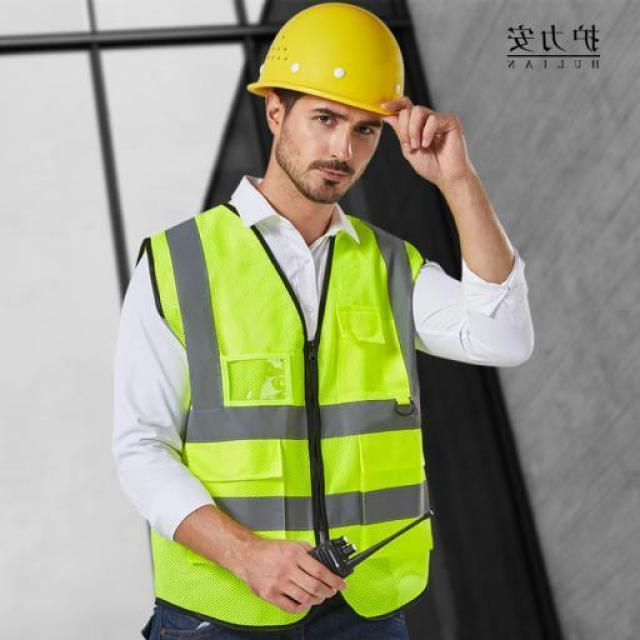vest: (157, 214, 419, 610)
